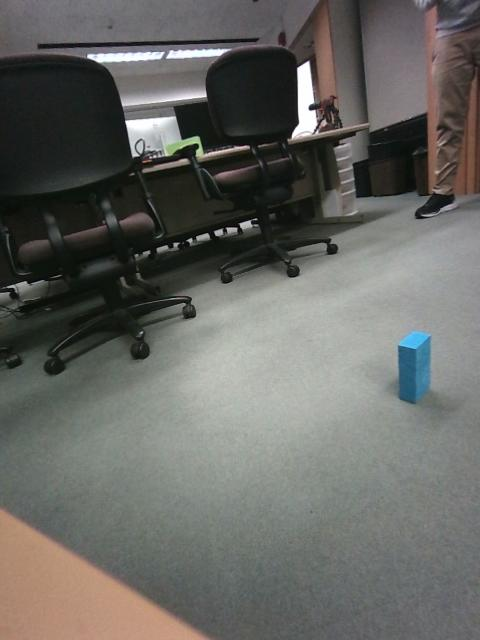block: (441, 251, 480, 324)
